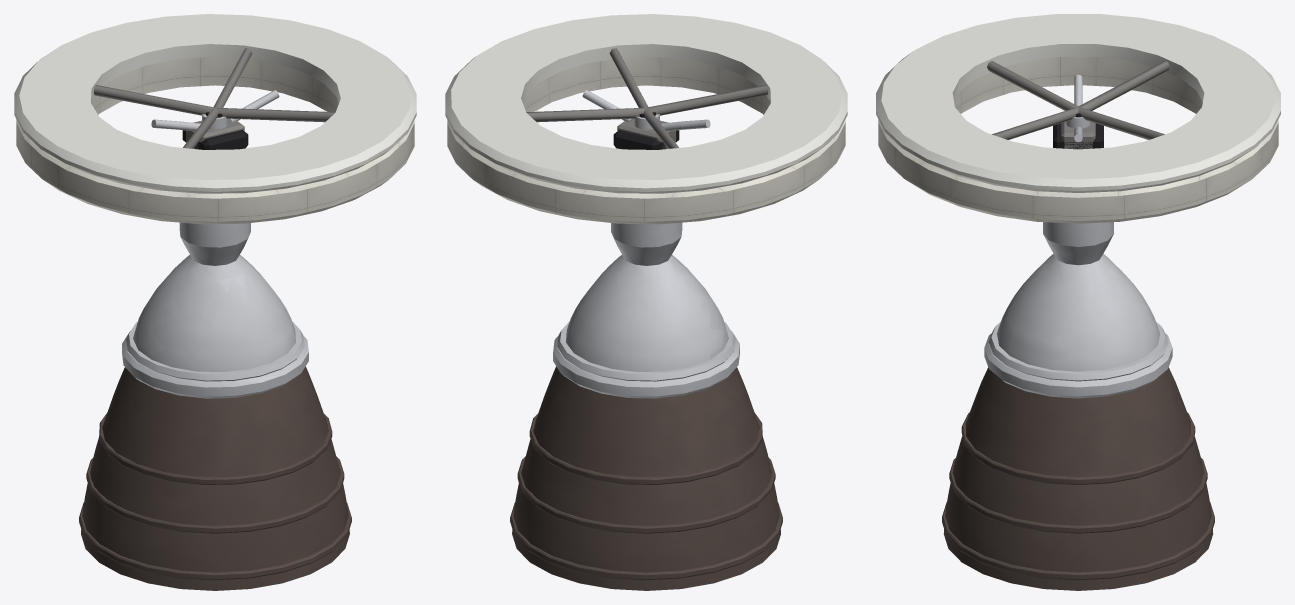
File: ax_prop_08_oms_hypergolic_s.glb
The picture shows the model from 3 angles, left to right: view 1: azimuth 30°, elevation 25°; view 2: azimuth 150°, elevation 25°; view 3: azimuth 270°, elevation 25°; orthographic projection.
Visible parts, largest first — view 1: nozzle_extension, mount_ring, thermal_blanket_ring, regen_nozzle, extension_hoops, thrust_struts, joint_flange, chamber, regen_manifold, gimbal, plumbing; view 2: nozzle_extension, mount_ring, thermal_blanket_ring, regen_nozzle, extension_hoops, thrust_struts, joint_flange, chamber, regen_manifold, gimbal, plumbing; view 3: nozzle_extension, mount_ring, thermal_blanket_ring, regen_nozzle, extension_hoops, thrust_struts, joint_flange, chamber, regen_manifold, valve_block, gimbal.
Boxes of the visible parts, <box> form: nozzle_extension: <box>81,366,349,590</box>; mount_ring: <box>14,14,416,193</box>; thermal_blanket_ring: <box>16,57,414,224</box>; regen_nozzle: <box>133,255,295,371</box>; extension_hoops: <box>79,413,351,580</box>; thrust_struts: <box>94,48,335,148</box>; joint_flange: <box>122,331,308,398</box>; chamber: <box>179,222,250,265</box>; regen_manifold: <box>126,321,304,381</box>; gimbal: <box>182,112,248,149</box>; plumbing: <box>151,90,279,131</box>; nozzle_extension: <box>512,366,780,590</box>; mount_ring: <box>445,14,847,193</box>; thermal_blanket_ring: <box>447,57,845,224</box>; regen_nozzle: <box>566,255,728,371</box>; extension_hoops: <box>510,413,782,580</box>; thrust_struts: <box>526,48,767,148</box>; joint_flange: <box>553,331,739,398</box>; chamber: <box>611,222,682,265</box>; regen_manifold: <box>557,321,735,381</box>; gimbal: <box>613,112,679,149</box>; plumbing: <box>582,90,710,131</box>; nozzle_extension: <box>943,367,1213,590</box>; mount_ring: <box>876,14,1280,192</box>; thermal_blanket_ring: <box>878,57,1278,223</box>; regen_nozzle: <box>997,254,1159,371</box>; extension_hoops: <box>942,412,1214,580</box>; thrust_struts: <box>987,61,1169,139</box>; joint_flange: <box>984,333,1172,398</box>; chamber: <box>1043,222,1113,265</box>; regen_manifold: <box>988,322,1168,381</box>; valve_block: <box>1061,122,1095,149</box>; gimbal: <box>1053,113,1103,149</box>.
Size of the model in its own units: 1.25 by 1.49 by 1.25.
6 materials, 4 textured.
